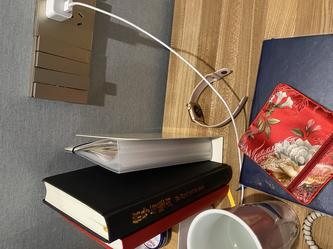switch: (31, 80, 91, 103), (33, 67, 92, 89), (35, 36, 89, 59), (33, 53, 93, 72)
